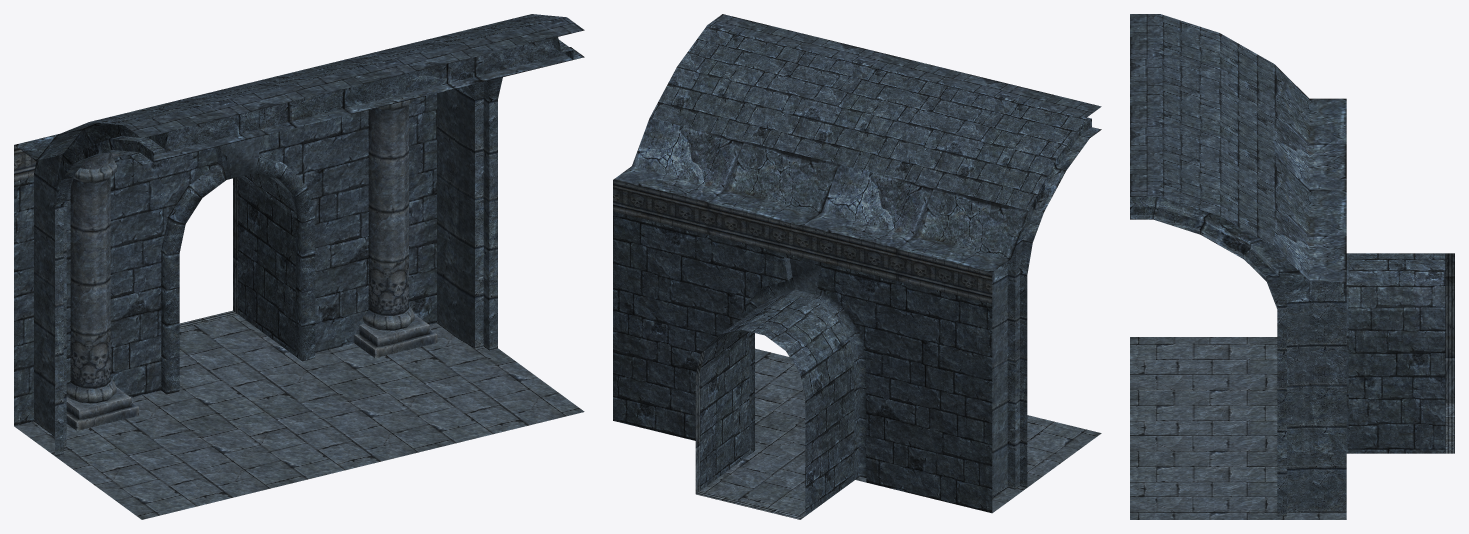
File: wall_4.FBX
The picture shows the model from 3 angles, left to right: view 1: azimuth 30°, elevation 25°; view 2: azimuth 150°, elevation 25°; view 3: azimuth 270°, elevation 25°; orthographic projection. The views are drawn at different scales.
Visible parts, largest first — view 1: wall_door 1; view 2: wall_door 1; view 3: wall_door 1.
Part boxes in pixels (x1,y1,x2,y2): wall_door 1: [14, 14, 584, 519]; wall_door 1: [613, 14, 1101, 519]; wall_door 1: [1130, 14, 1454, 519].
Size of the model in its own units: 91.85 by 75.6 by 68.89.
